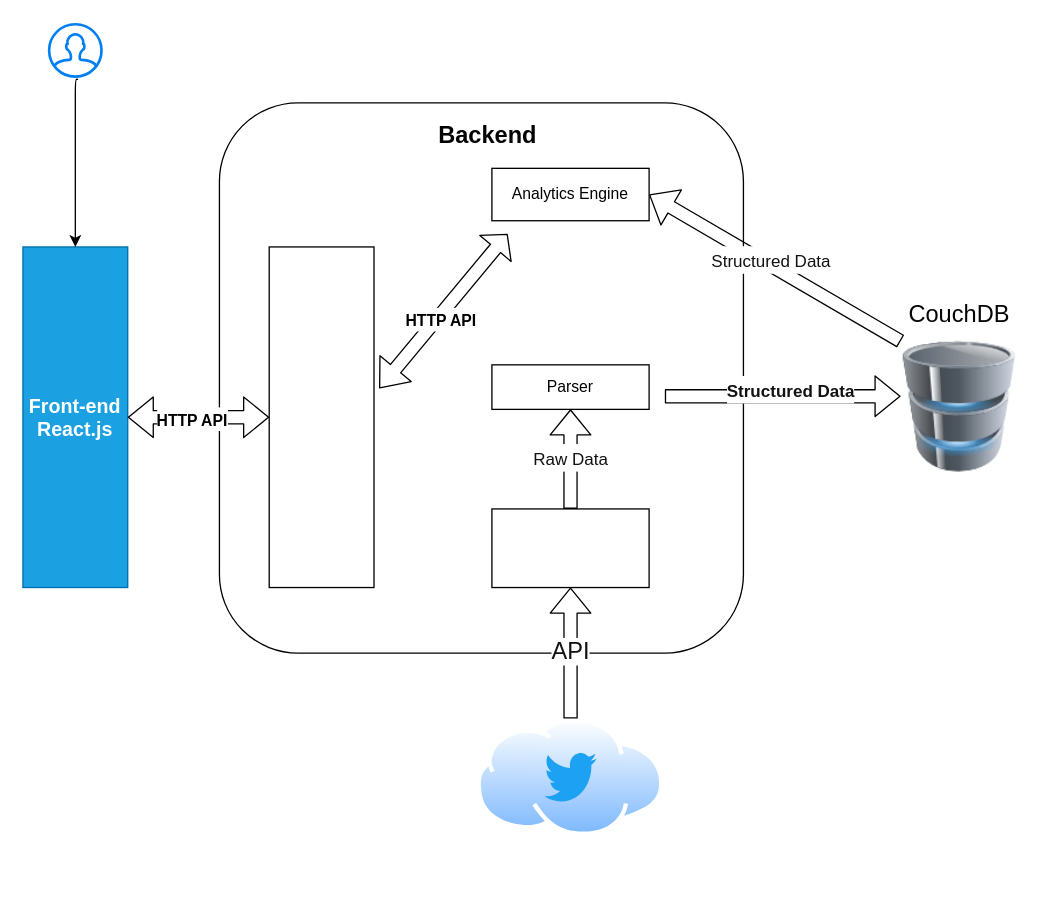
Image size: 1041x900. Some labels were removed from this diagram. The shapes that lost their labels are listed below. From the top down, each one's centre as x and y in pixels, then its label:
the point at 321,417: Flask
the point at 570,548: Tweet Harvestor
